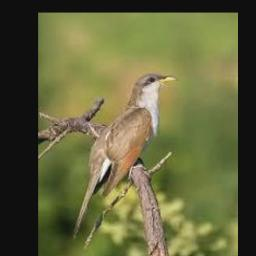Cuckoo: (73, 73, 177, 238)
